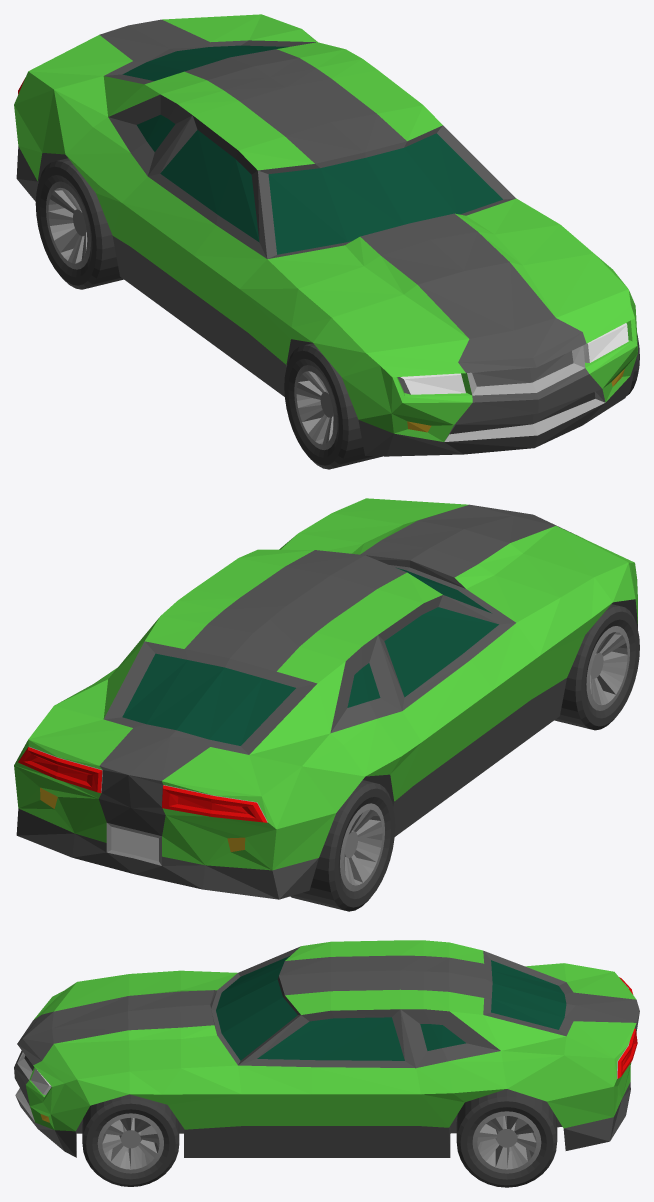
File: lowPolyCamaro.glb
3 renders of one model, top to bottom at view 1: azimuth 30°, elevation 25°; view 2: azimuth 150°, elevation 25°; view 3: azimuth 270°, elevation 25°, orthographic. The views are drawn at different scales.
Visible parts, largest first — view 1: CarBody, WRR, WFR; view 2: CarBody, WRR, WFR, TailLight; view 3: CarBody, WRR, WFR, TailLight.
Boxes of the visible parts, left/top/right/bottom form: CarBody: left=14, top=14, right=637, bottom=456; WRR: left=35, top=158, right=123, bottom=289; WFR: left=284, top=333, right=639, bottom=469; CarBody: left=14, top=498, right=637, bottom=899; WRR: left=290, top=780, right=395, bottom=911; WFR: left=554, top=604, right=639, bottom=730; TailLight: left=18, top=747, right=267, bottom=822; CarBody: left=14, top=940, right=639, bottom=1157; WRR: left=456, top=1089, right=557, bottom=1187; WFR: left=82, top=1094, right=179, bottom=1186; TailLight: left=617, top=977, right=637, bottom=1078.
Bounding box in the file's own units: 3.49 × 2.36 × 8.22.
